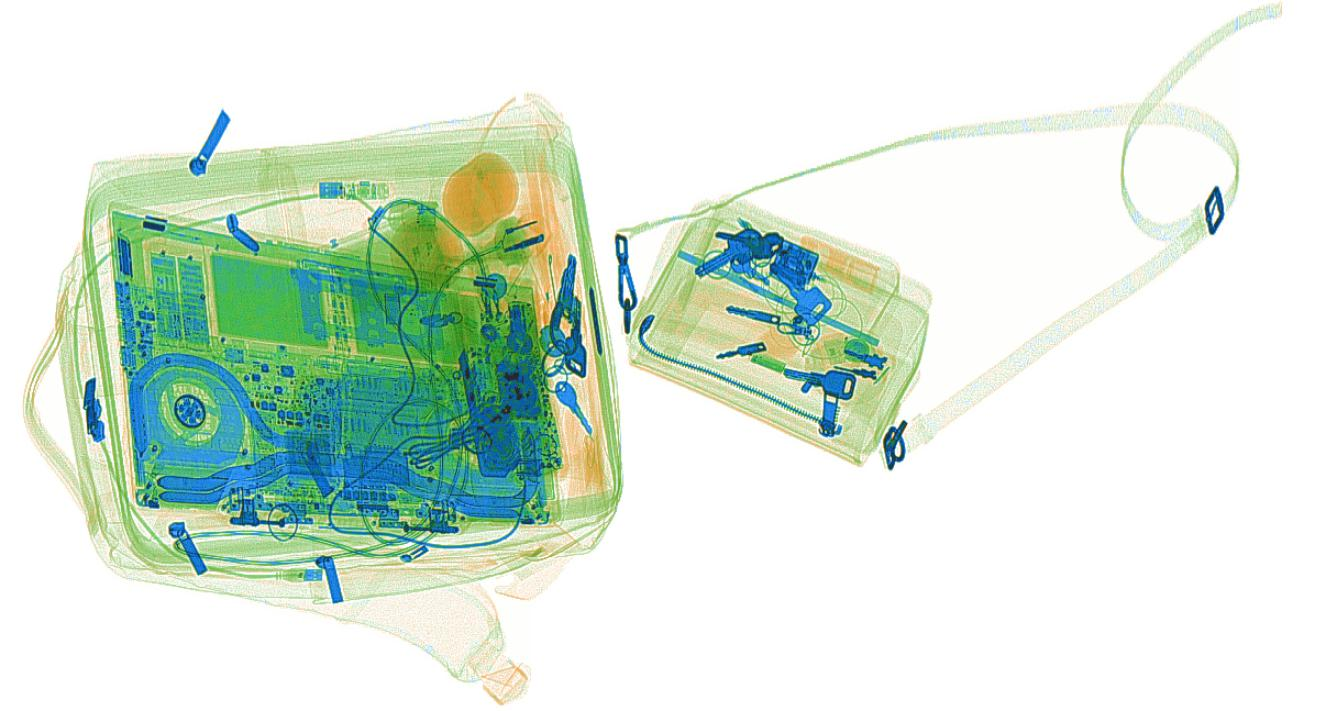USBFlashDisk: (315, 175, 391, 206)
